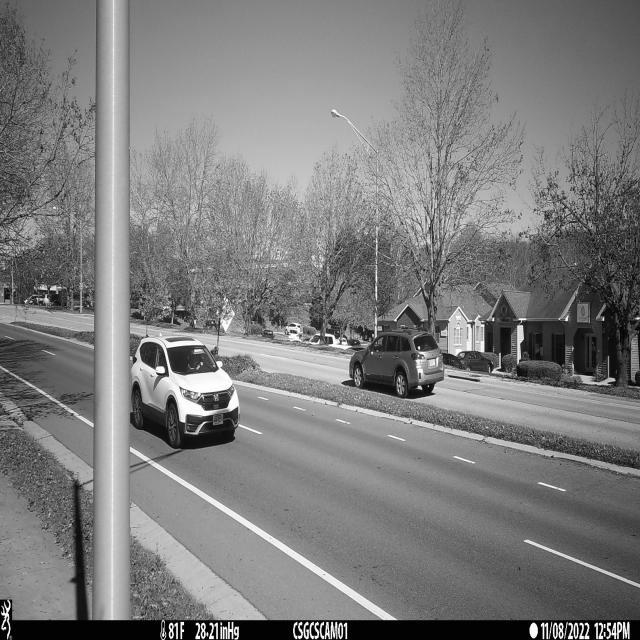SUV: (132, 336, 241, 448)
